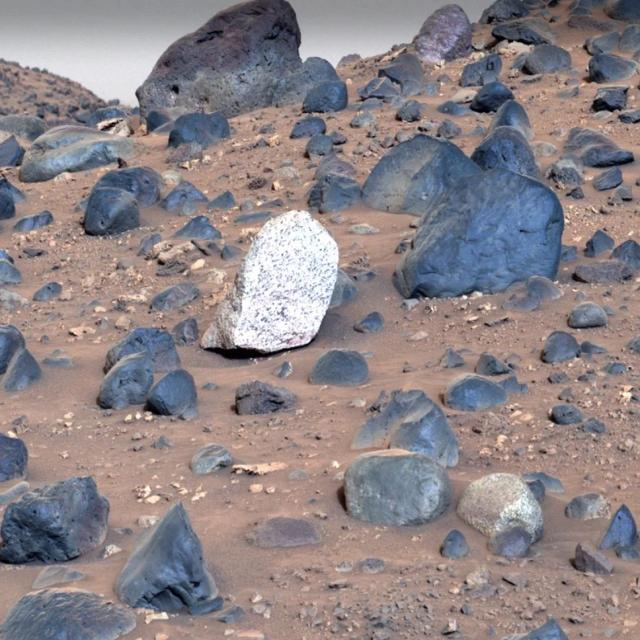stone: (136, 0, 337, 130), (393, 169, 563, 298), (201, 210, 339, 353), (343, 391, 458, 525), (115, 503, 221, 611), (0, 476, 109, 563), (362, 134, 479, 214), (97, 327, 196, 416), (0, 588, 136, 639), (458, 473, 543, 543), (20, 136, 138, 182), (469, 81, 533, 139), (470, 126, 540, 178), (412, 4, 470, 64), (572, 230, 639, 281), (25, 125, 113, 158), (93, 167, 163, 207), (83, 187, 140, 235), (0, 325, 41, 391), (564, 129, 633, 167), (442, 374, 507, 411), (246, 516, 321, 548), (290, 116, 346, 156), (308, 349, 368, 386), (169, 111, 229, 148), (598, 504, 639, 558), (235, 380, 296, 414), (503, 276, 561, 311), (378, 53, 424, 92), (319, 172, 362, 213), (159, 181, 208, 214), (488, 526, 537, 558), (523, 44, 571, 74), (151, 282, 200, 310), (0, 433, 28, 482), (303, 80, 346, 111), (190, 444, 233, 473), (540, 331, 580, 362), (173, 215, 221, 240), (568, 302, 607, 328), (14, 210, 53, 233)
